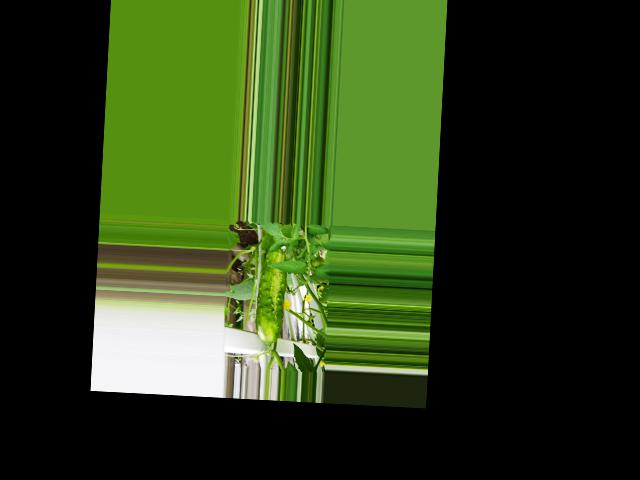cucumber: (254, 248, 286, 345)
